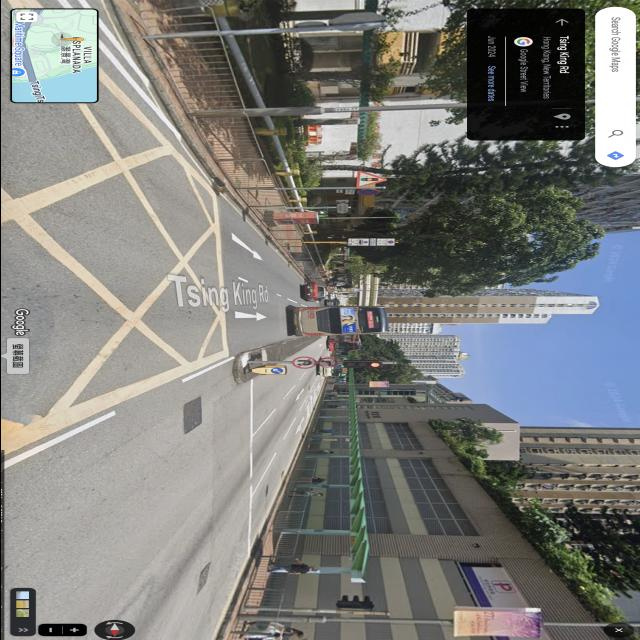Direction-Sign: (336, 203, 348, 215)
Order-Sign: (291, 356, 317, 368), (318, 358, 336, 368), (347, 238, 368, 246), (376, 238, 394, 246), (355, 190, 379, 196), (269, 368, 283, 373)
Warning-Sign: (356, 170, 387, 188)
